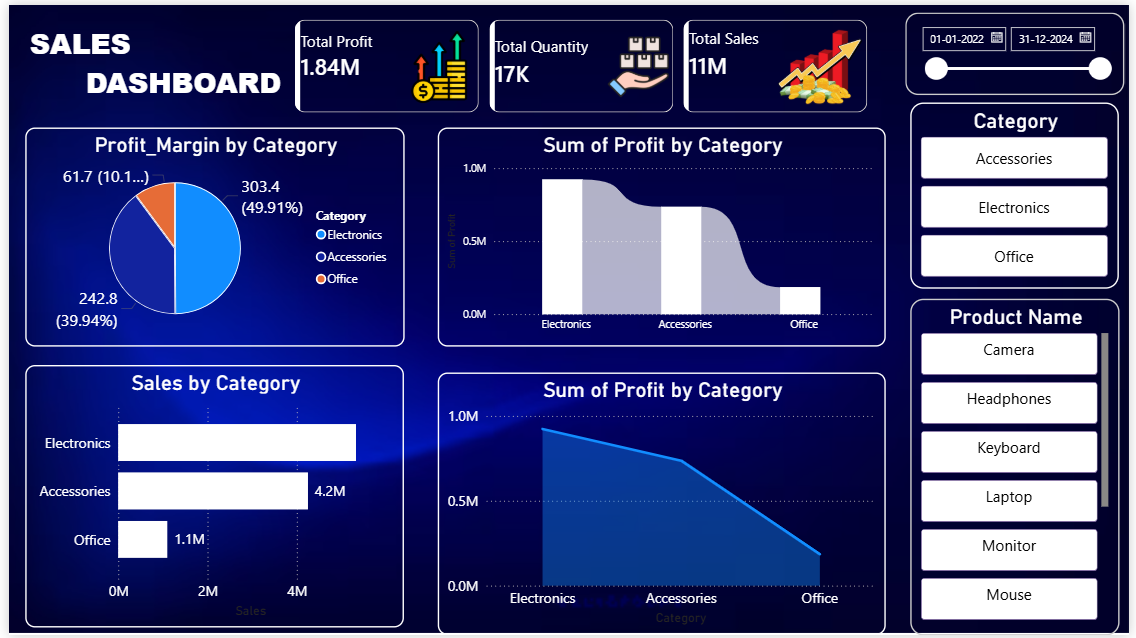

The dashboard page shown, as its layout file describes it:
{"tool":"powerbi","page":{"name":"Page 1","canvas":[1280,720],"ordinal":0},"visuals":[{"type":"textbox","box":[18.3,15,320,111.7],"z":0},{"type":"advancedSlicerVisual","fields":{"Values":["Clean_data.Category"]},"box":[1030,111.4,238.6,212.9],"z":1000},{"type":"barChart","fields":{"Y":["Sum(Clean_data.Sales)"],"Category":["Clean_data.Category"]},"box":[18.6,411.4,432.9,300],"z":2000},{"type":"areaChart","fields":{"Category":["Clean_data.Category"],"Y":["Sum(Clean_data.Profit)"]},"box":[490,420,511.7,300],"z":3000},{"type":"pieChart","fields":{"Category":["Clean_data.Category"],"Y":["Sum(Clean_data.Profit_Margin)"]},"box":[18.3,140,433.3,250],"z":4000},{"type":"cardVisual","fields":{"Data":["Sum(Clean_data.Profit)","Sum(Clean_data.Quantity)","Sum(Clean_data.Sales)"]},"box":[310,0,690,140],"z":4500},{"type":"ribbonChart","fields":{"Category":["Clean_data.Category"],"Y":["Sum(Clean_data.Profit)"]},"box":[490,140,511.7,250],"z":5000},{"type":"advancedSlicerVisual","fields":{"Values":["Clean_data.Product Name"]},"box":[1029.8,335.7,239.3,384.5],"z":7000},{"type":"slicer","fields":{"Values":["Clean_data.Order Date"]},"box":[1024.3,8.6,250,94.3],"z":8000}]}

Visuals, with their boxes in screenshot pixels (x1, y1, x2, y2), scaled from the page's 1280x720 canvas onto the 1136x638 screenshot:
textbox: bbox(16, 13, 300, 112)
advancedSlicerVisual - Clean_data.Category: bbox(914, 99, 1126, 287)
barChart - Sum(Clean_data.Sales) x Clean_data.Category: bbox(17, 365, 401, 630)
areaChart - Clean_data.Category x Sum(Clean_data.Profit): bbox(435, 372, 889, 637)
pieChart - Clean_data.Category x Sum(Clean_data.Profit_Margin): bbox(16, 124, 401, 346)
cardVisual - Sum(Clean_data.Profit) x Sum(Clean_data.Quantity): bbox(275, 0, 888, 124)
ribbonChart - Clean_data.Category x Sum(Clean_data.Profit): bbox(435, 124, 889, 346)
advancedSlicerVisual - Clean_data.Product Name: bbox(914, 297, 1126, 637)
slicer - Clean_data.Order Date: bbox(909, 8, 1131, 91)
